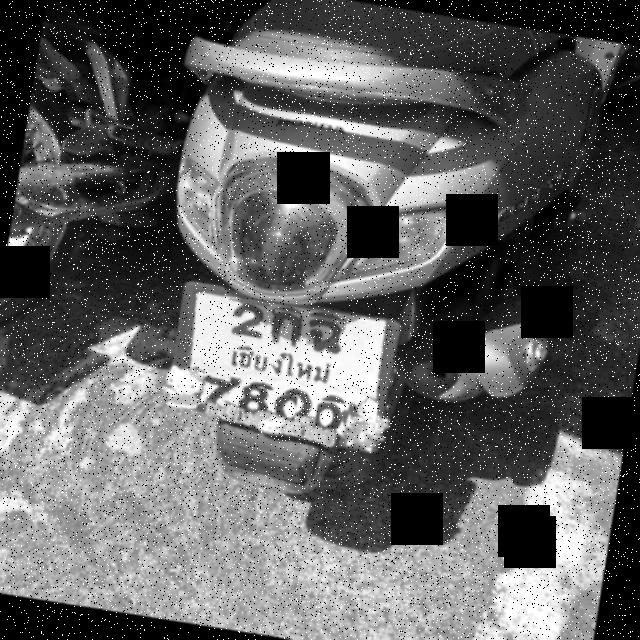letters: (222, 298, 271, 349), (303, 314, 346, 362), (198, 369, 232, 417), (236, 386, 280, 420), (269, 308, 301, 351), (314, 400, 349, 434), (274, 392, 298, 426)
license-plate: (188, 289, 392, 435)
province: (217, 338, 339, 388)
